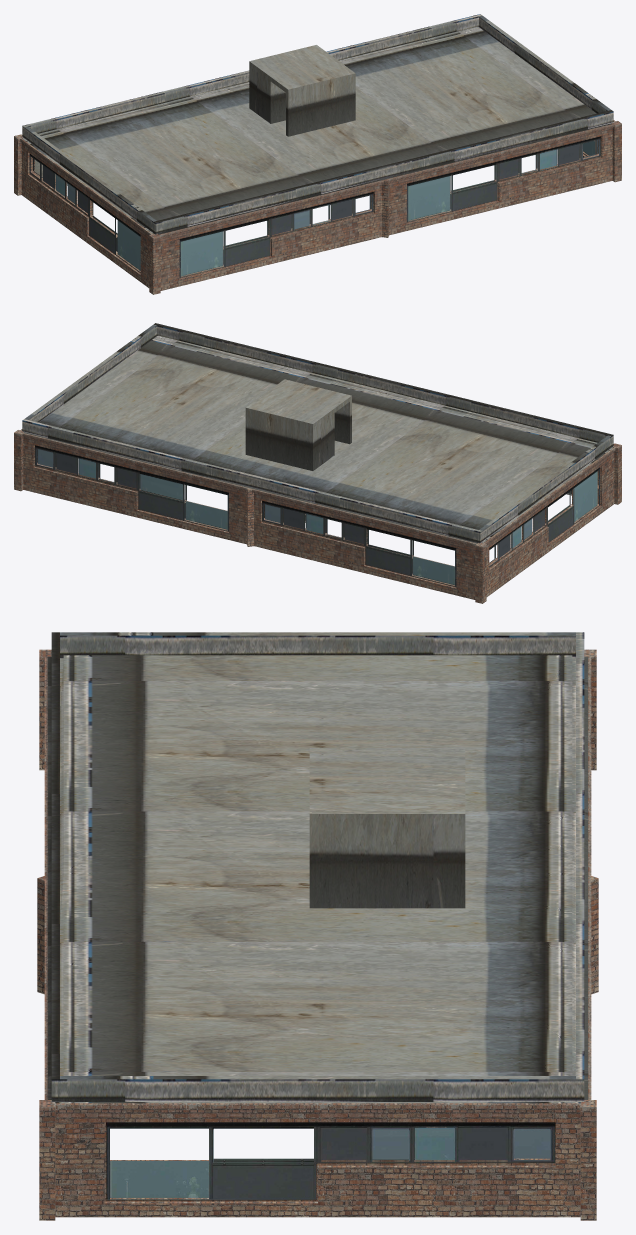
The model's file is BagSS11top_500.fbx.
3 renders of one model, top to bottom at view 1: azimuth 30°, elevation 25°; view 2: azimuth 150°, elevation 25°; view 3: azimuth 270°, elevation 25°, orthographic. The views are drawn at different scales.
Parts seen in each view (by area): view 1: topRoof500, topMain500; view 2: topRoof500, topMain500; view 3: topRoof500, topMain500.
Part boxes in pixels (left/top/right/bottom): topRoof500: left=22, top=14, right=613, bottom=234; topMain500: left=14, top=120, right=621, bottom=294; topRoof500: left=22, top=323, right=613, bottom=543; topMain500: left=14, top=429, right=621, bottom=603; topRoof500: left=47, top=632, right=588, bottom=1103; topMain500: left=37, top=649, right=598, bottom=1220.
Size of the model in its own units: 169 by 36.66 by 87.6.
